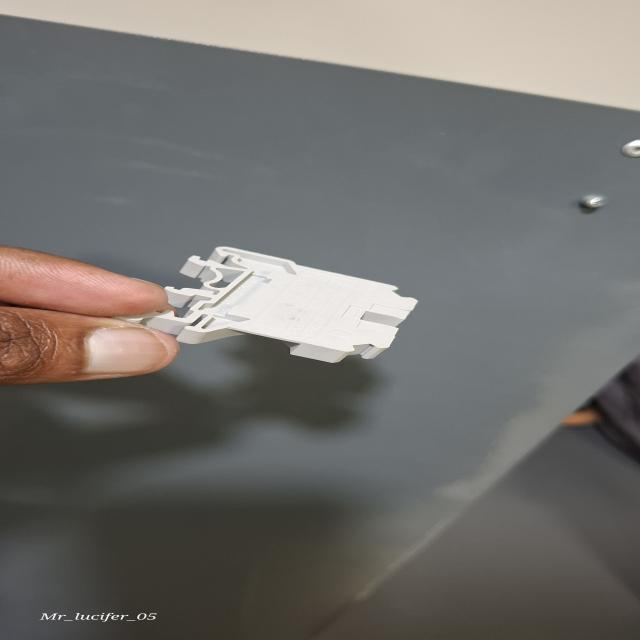Inverted: (132, 244, 420, 365)
